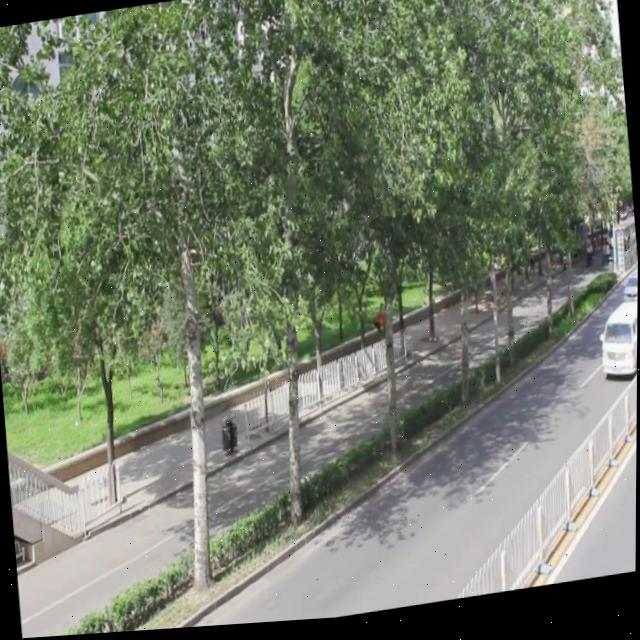truck: (596, 306, 638, 383)
